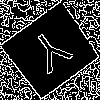Y: (26, 25, 81, 84)
